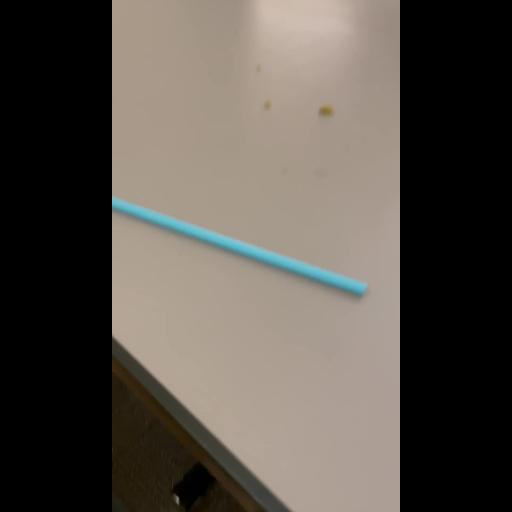straw: (112, 188, 370, 344)
